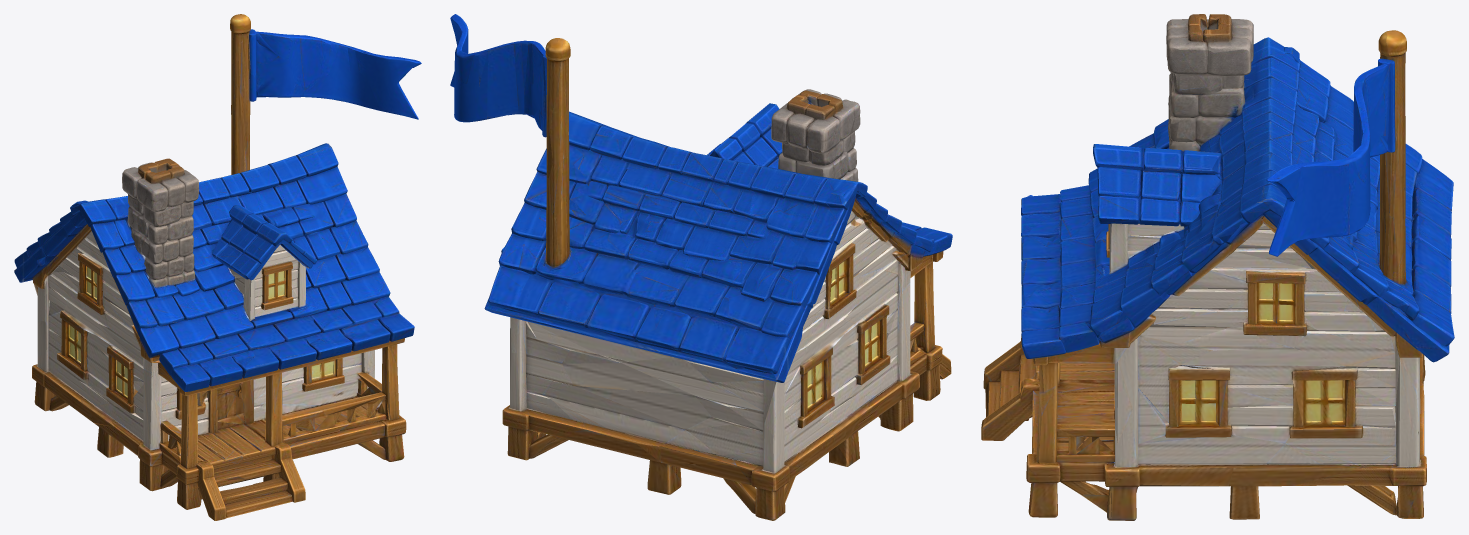
The model's file is farmhouse.glb.
3 renders of one model, left to right at view 1: azimuth 30°, elevation 25°; view 2: azimuth 150°, elevation 25°; view 3: azimuth 270°, elevation 25°, orthographic. The views are drawn at different scales.
Parts seen in each view (by area): view 1: Mesh_0; view 2: Mesh_0; view 3: Mesh_0.
Part boxes in pixels (x1,y1,x2,y2): Mesh_0: (14,14,421,520); Mesh_0: (450,14,952,520); Mesh_0: (981,14,1454,520).
Bounding box in the file's own units: 1.9 × 1.87 × 1.71.
1 material, 1 textured.
